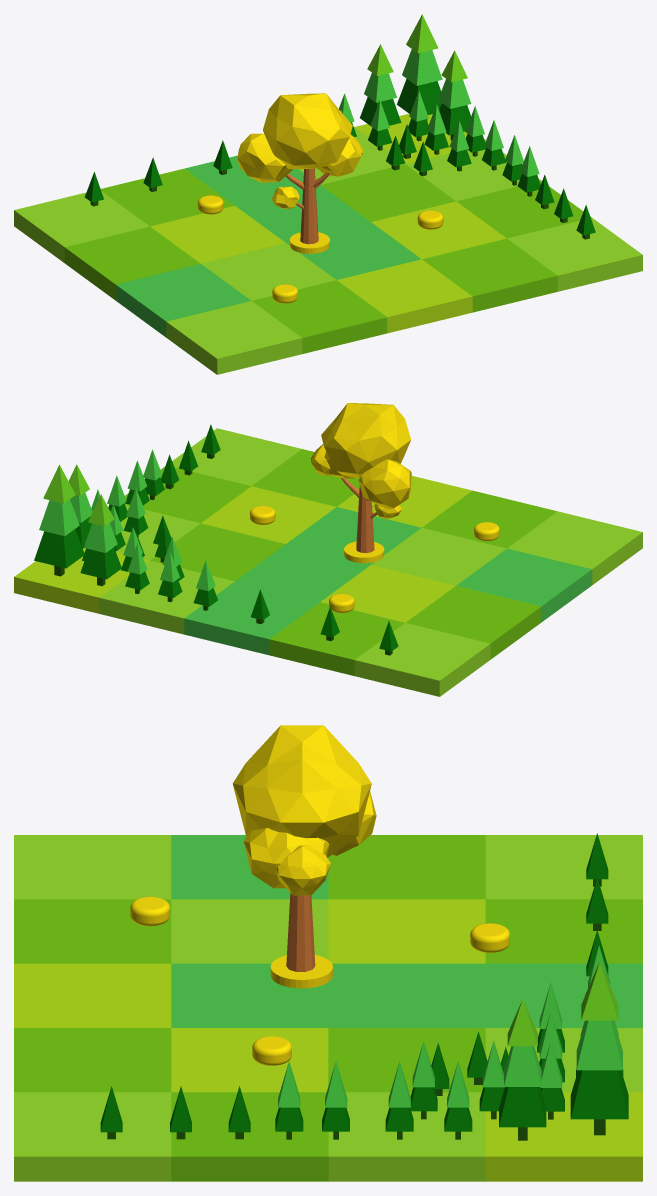
File: 3-unveiled-horizons.glb
3 views of the same model, one above another, from view 1: azimuth 30°, elevation 25°; view 2: azimuth 150°, elevation 25°; view 3: azimuth 270°, elevation 25° (orthographic). The views are drawn at different scales.
Parts seen in each view (by area): view 1: Material_001-material (×3), object 19, object 30, object 32, object 31, object 22, object 24, object 23, object 20, object 34, object 33, object 36 (+18 smaller); view 2: Material_001-material (×2), object 20, object 27, object 26, object 24, object 23, object 19, object 36, object 35, object 25, object 33, object 31 (+21 smaller); view 3: Material_001-material (×4), object 22, object 28, object 29, object 32, object 30, object 19, object 35, object 21, object 33, object 24, object 20 (+37 smaller).
Boxes of the visible parts, bbox=[...] form: Material_001-material (×3): bbox=[237, 93, 361, 182]; object 19: bbox=[166, 301, 302, 374]; object 30: bbox=[422, 238, 557, 312]; object 32: bbox=[337, 259, 472, 333]; object 31: bbox=[252, 280, 387, 353]; object 22: bbox=[507, 218, 642, 291]; object 24: bbox=[64, 226, 200, 300]; object 23: bbox=[115, 263, 250, 337]; object 20: bbox=[14, 191, 149, 262]; object 34: bbox=[321, 164, 455, 221]; object 33: bbox=[150, 206, 285, 263]; object 36: bbox=[201, 243, 335, 300]; Material_001-material (×2): bbox=[321, 403, 411, 509]; object 20: bbox=[354, 623, 490, 696]; object 27: bbox=[184, 581, 319, 655]; object 26: bbox=[269, 602, 404, 675]; object 24: bbox=[406, 585, 541, 659]; object 23: bbox=[456, 548, 592, 622]; object 19: bbox=[507, 511, 642, 584]; object 36: bbox=[371, 528, 506, 585]; object 35: bbox=[235, 544, 370, 601]; object 25: bbox=[99, 560, 234, 634]; object 33: bbox=[321, 565, 455, 622]; object 31: bbox=[422, 490, 557, 548]; Material_001-material (×4): bbox=[232, 725, 376, 895]; object 22: bbox=[14, 1092, 171, 1181]; object 28: bbox=[171, 1092, 328, 1181]; object 29: bbox=[328, 1092, 485, 1181]; object 32: bbox=[14, 963, 171, 1027]; object 30: bbox=[14, 1028, 171, 1092]; object 19: bbox=[14, 835, 171, 899]; object 35: bbox=[328, 963, 485, 1027]; object 21: bbox=[485, 1092, 642, 1181]; object 33: bbox=[328, 899, 485, 963]; object 24: bbox=[328, 835, 485, 899]; object 20: bbox=[485, 835, 642, 899].
Size of the model in its own units: 4.66 by 1.74 by 3.85.
